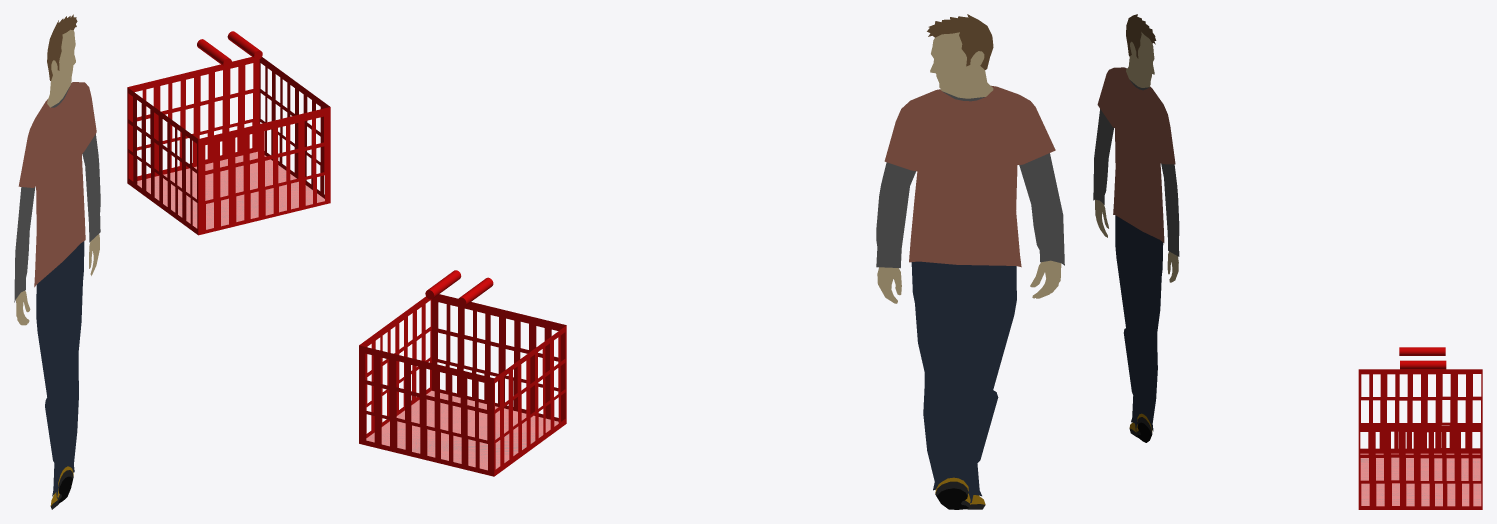
File: basket2.dae
3 renders of one model, left to right at view 1: azimuth 30°, elevation 25°; view 2: azimuth 150°, elevation 25°; view 3: azimuth 270°, elevation 25°, orthographic. The views are drawn at different scales.
Parts seen in each view (by area): view 1: SketchUp (×4), _2D_Man_Walking_Toward (×6); view 2: _2D_Man_Walking_Toward (×7), SketchUp (×2); view 3: _2D_Man_Walking_Toward (×6), SketchUp (×3).
Boxes of the visible parts, <box> form: SketchUp (×4): <box>127,31,330,235</box>; _2D_Man_Walking_Toward (×6): <box>14,14,100,498</box>; _2D_Man_Walking_Toward (×7): <box>876,14,1064,503</box>; SketchUp (×2): <box>359,294,566,476</box>; _2D_Man_Walking_Toward (×6): <box>1093,14,1179,431</box>; SketchUp (×3): <box>1358,360,1482,509</box>.
Size of the model in its own units: 71.85 by 59.22 by 71.19.
